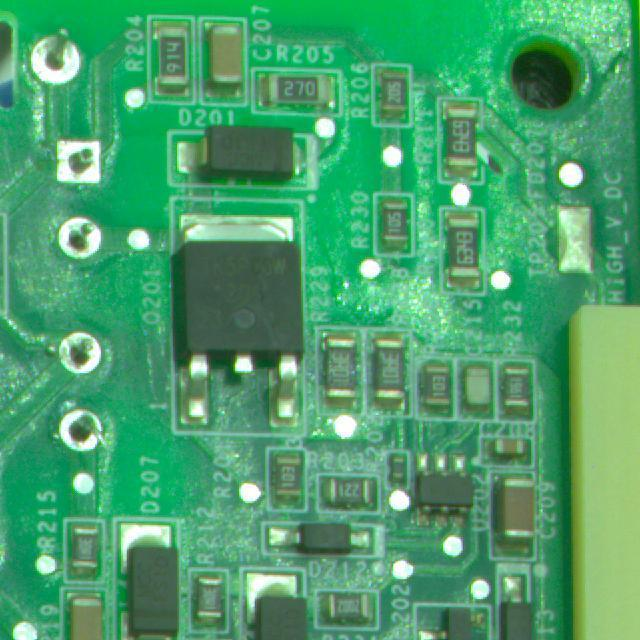Insufficient solder: (52, 318, 115, 390), (51, 131, 114, 201), (29, 26, 87, 97), (53, 402, 115, 462), (54, 212, 112, 271)
